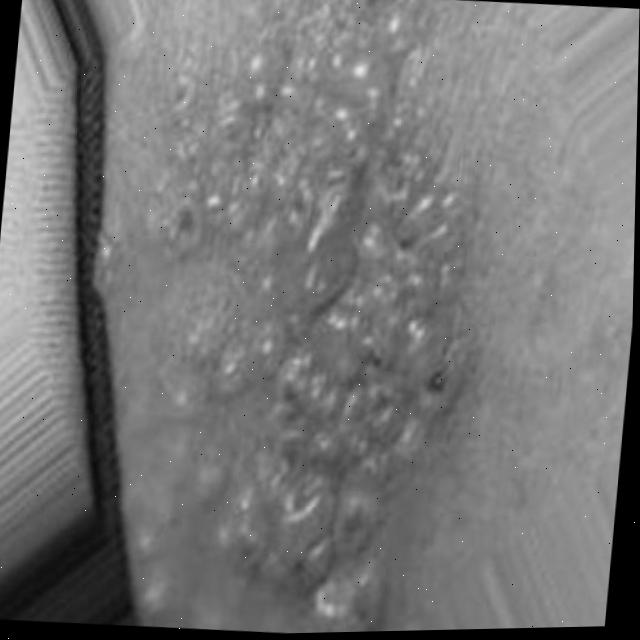Shingles: (110, 0, 500, 637)
